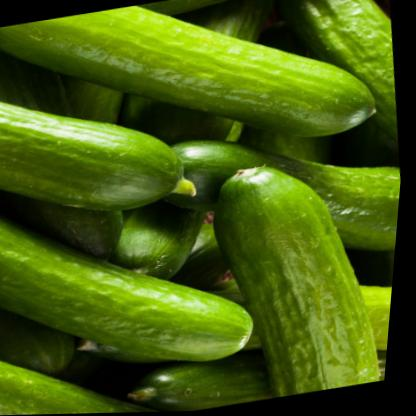--: (0, 0, 396, 193), (0, 146, 280, 398), (191, 141, 402, 408), (0, 40, 219, 237)
